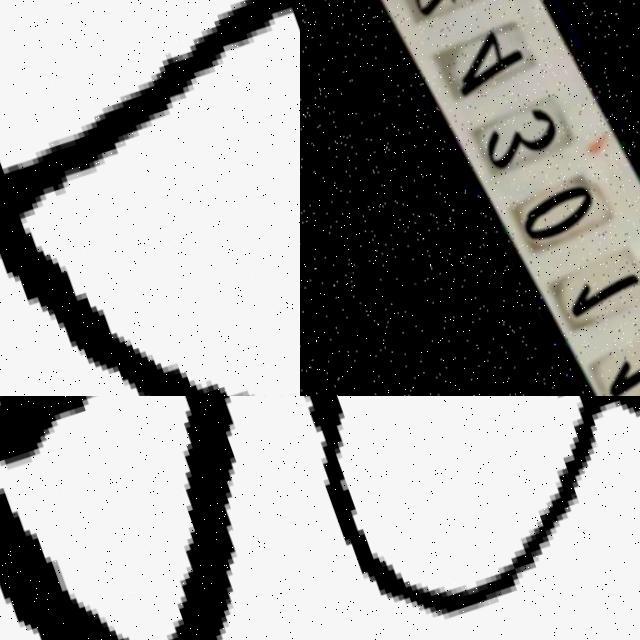0: (499, 157, 612, 257)
1: (542, 233, 640, 333), (581, 309, 640, 396)
3: (462, 83, 574, 182)
4: (425, 6, 541, 107)
7: (391, 0, 495, 27)
D: (0, 0, 300, 396)
P: (0, 396, 300, 640)
Q: (300, 396, 640, 640)
